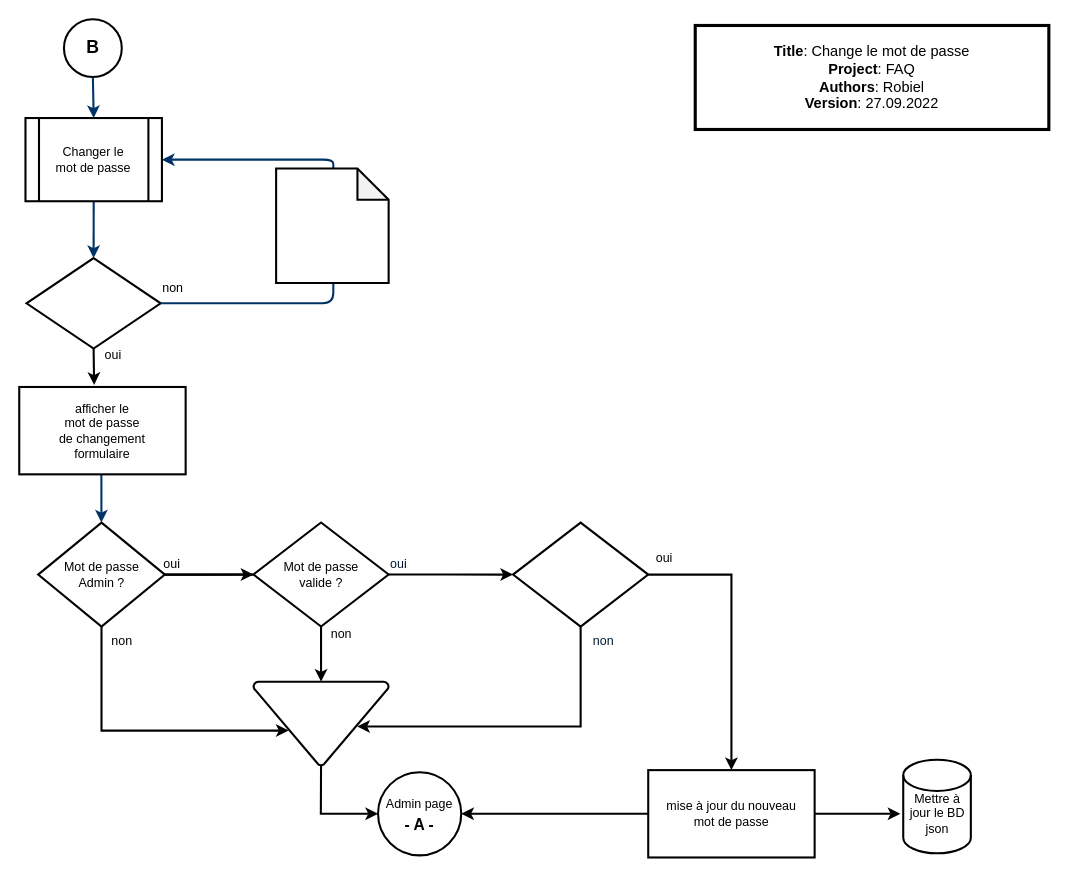
This 1068x876 diagram has some shape labels left out. Here are the shapes that lost their labels. From the top down, the centre of each, then its label:
the point at 332,225: Uniquement l'administrateur peut changer le mot de passe
the point at 93,302: vérifier pour autorisation
the point at 580,574: Mot de passe Confirmation?
the point at 320,723: Terminer la requête
